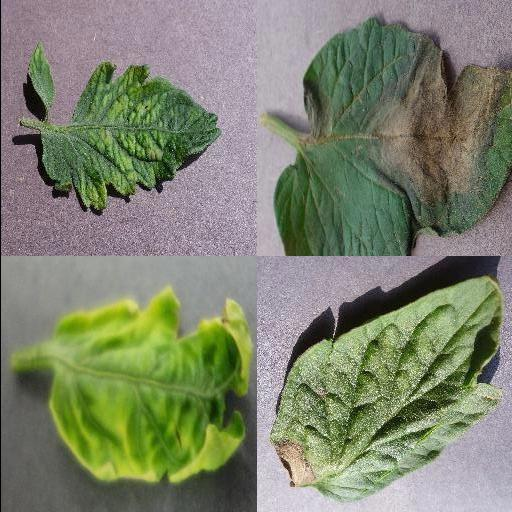Late Blight: (272, 18, 512, 256), (267, 276, 503, 506)
Mosaic Virus: (39, 58, 221, 210)
Yellow Leaf Curl Virus: (45, 288, 253, 484)
